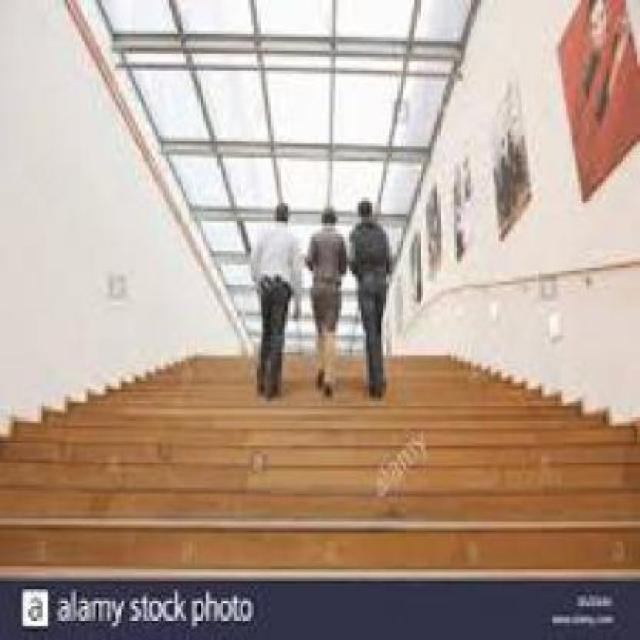stair: (46, 352, 565, 549)
